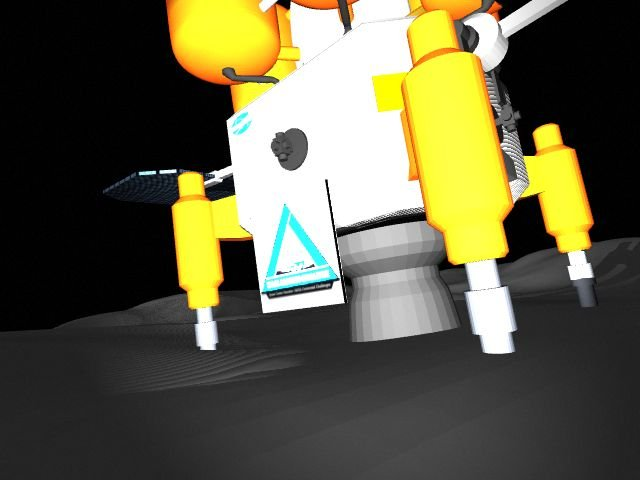basemarker: (261, 203, 341, 300)
